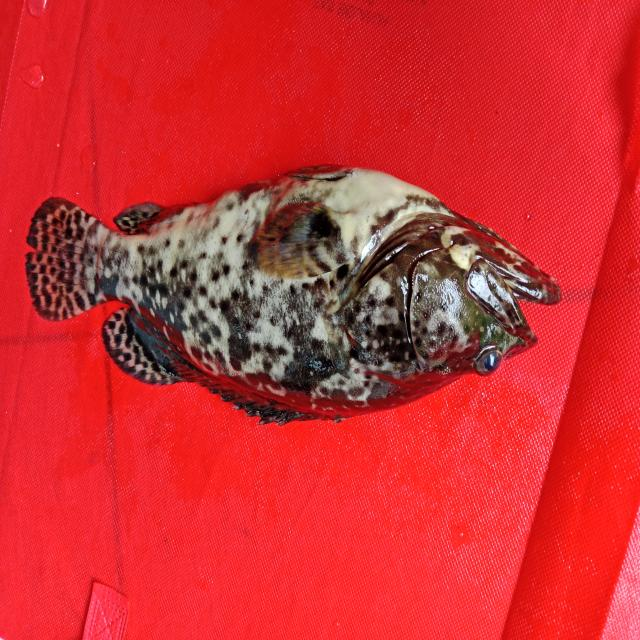ikan: (15, 151, 569, 436)
